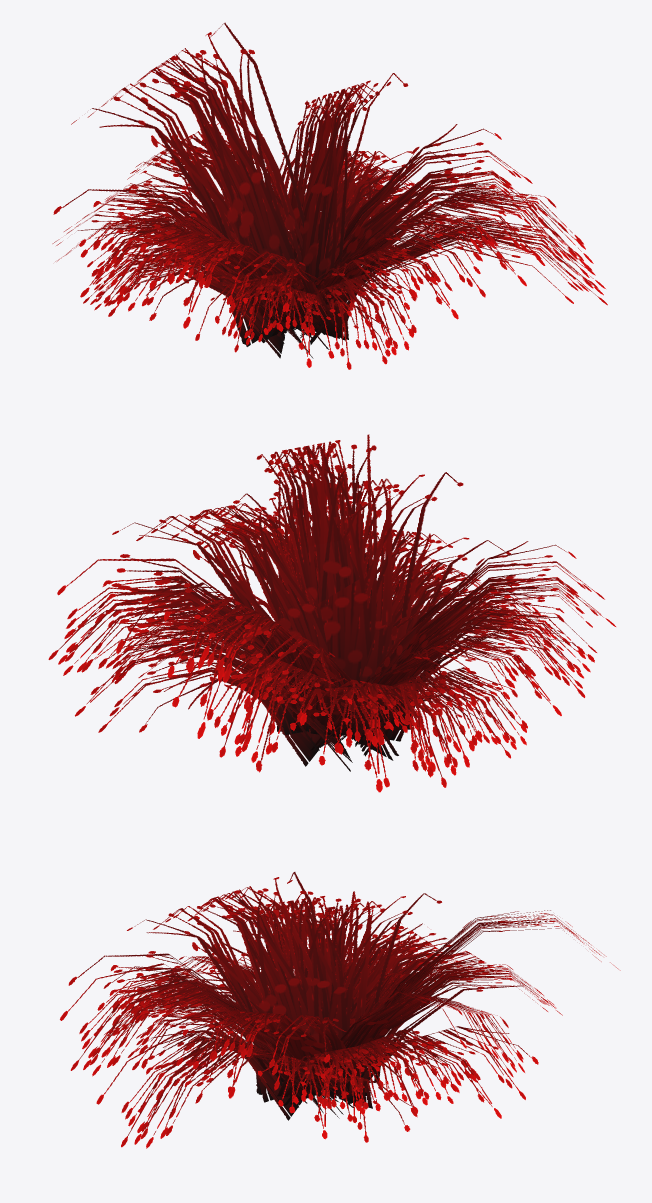
File: bush_snowcap_grass_a_lod2.glb
3 views of the same model, one above another, from view 1: azimuth 30°, elevation 25°; view 2: azimuth 150°, elevation 25°; view 3: azimuth 270°, elevation 25° (orthographic). The views are drawn at different scales.
Parts seen in each view (by area): view 1: bush_snowcap_grass_a; view 2: bush_snowcap_grass_a; view 3: bush_snowcap_grass_a.
Part boxes in pixels (x1,y1,x2,y2): bush_snowcap_grass_a: (52, 22, 607, 369); bush_snowcap_grass_a: (48, 434, 615, 792); bush_snowcap_grass_a: (60, 872, 620, 1148).
Bounding box in the file's own units: 1.53 × 0.6676 × 1.69.
1 material, 1 textured.
